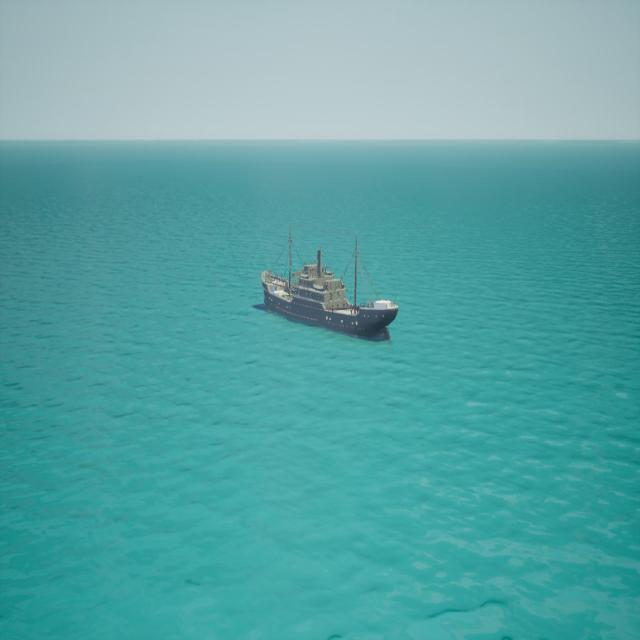fishing ship: (258, 226, 400, 343)
